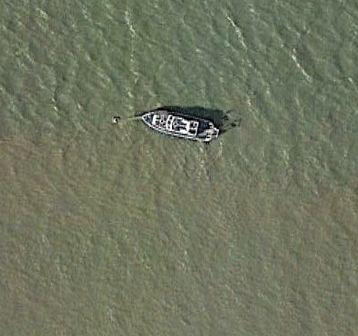boat: (137, 108, 221, 144)
